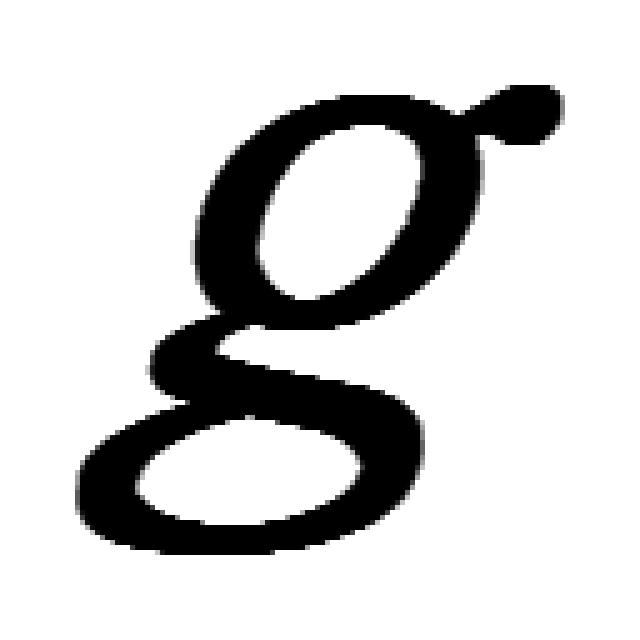G: (87, 83, 561, 545)
